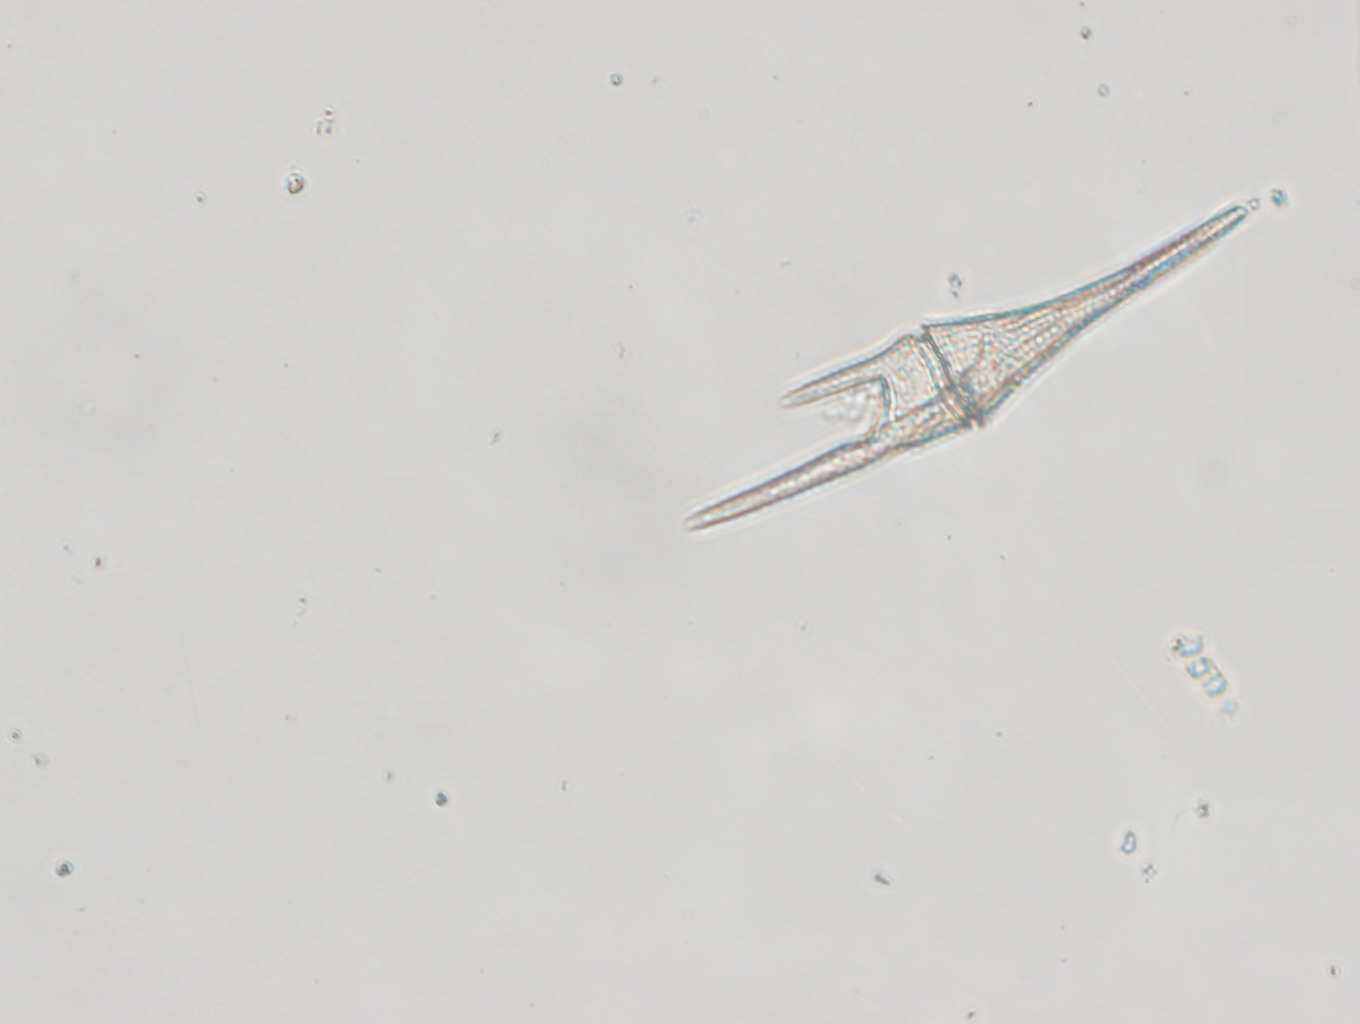ceratium furca: (679, 200, 1257, 532)
